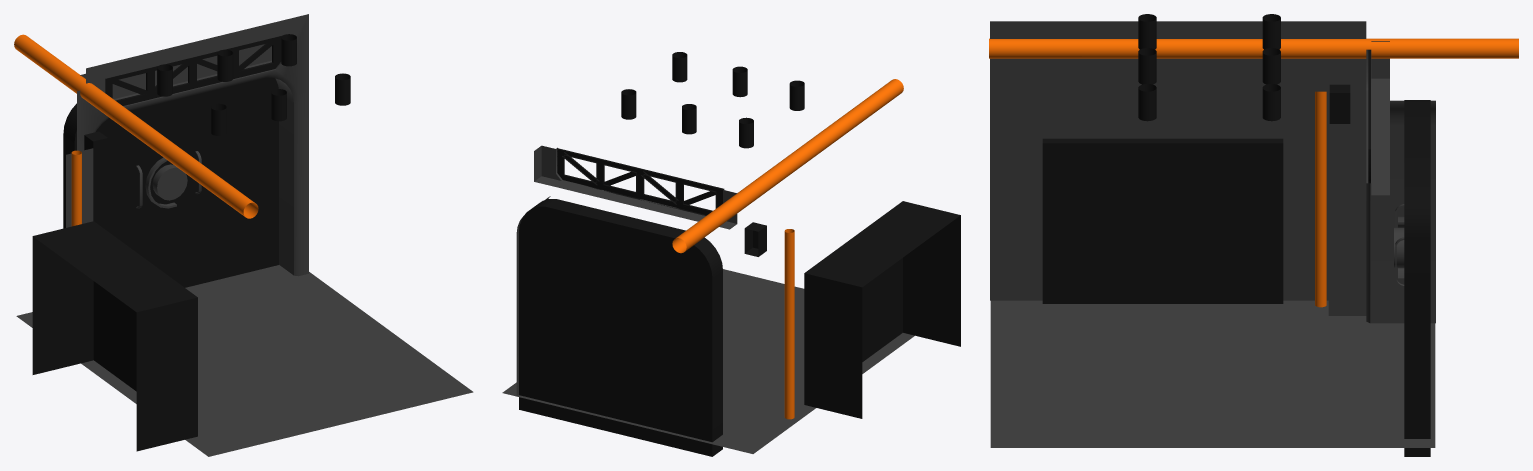
The model's file is Blockout 01.FBX.
3 views of the same model, side by side, from view 1: azimuth 30°, elevation 25°; view 2: azimuth 150°, elevation 25°; view 3: azimuth 270°, elevation 25° (orthographic). The views are drawn at different scales.
Visible parts, largest first — view 1: floor plane, door, lockers, main corner, tube 2, ceiling railings, ceiling lights, door handle central, tube 1, radio; view 2: door, lockers, floor plane, tube 2, ceiling railings, main corner, ceiling lights, tube 1, radio; view 3: main corner, floor plane, lockers, tube 2, door, ceiling lights, tube 1, radio.
Boxes of the visible parts, left/top/right/bottom form: floor plane: left=16, top=265, right=473, bottom=456; door: left=63, top=77, right=278, bottom=287; lockers: left=32, top=221, right=197, bottom=451; main corner: left=66, top=14, right=308, bottom=276; tube 2: left=14, top=34, right=258, bottom=218; ceiling railings: left=105, top=36, right=281, bottom=105; ceiling lights: left=157, top=34, right=350, bottom=135; door handle central: left=152, top=164, right=187, bottom=200; tube 1: left=71, top=150, right=81, bottom=226; radio: left=84, top=131, right=107, bottom=168; door: left=519, top=199, right=722, bottom=456; lockers: left=804, top=201, right=960, bottom=418; floor plane: left=502, top=269, right=914, bottom=453; tube 2: left=672, top=79, right=903, bottom=253; ceiling railings: left=556, top=148, right=724, bottom=215; main corner: left=516, top=145, right=737, bottom=396; ceiling lights: left=621, top=52, right=804, bottom=148; tube 1: left=784, top=229, right=794, bottom=419; radio: left=744, top=222, right=766, bottom=256; main corner: left=990, top=21, right=1435, bottom=323; floor plane: left=990, top=300, right=1435, bottom=447; lockers: left=1042, top=138, right=1283, bottom=303; tube 2: left=989, top=38, right=1518, bottom=58; door: left=1404, top=100, right=1430, bottom=456; ceiling lights: left=1138, top=14, right=1280, bottom=121; tube 1: left=1315, top=91, right=1326, bottom=307; radio: left=1329, top=84, right=1350, bottom=123.
Size of the model in its own units: 11.93 by 10.74 by 15.06.
